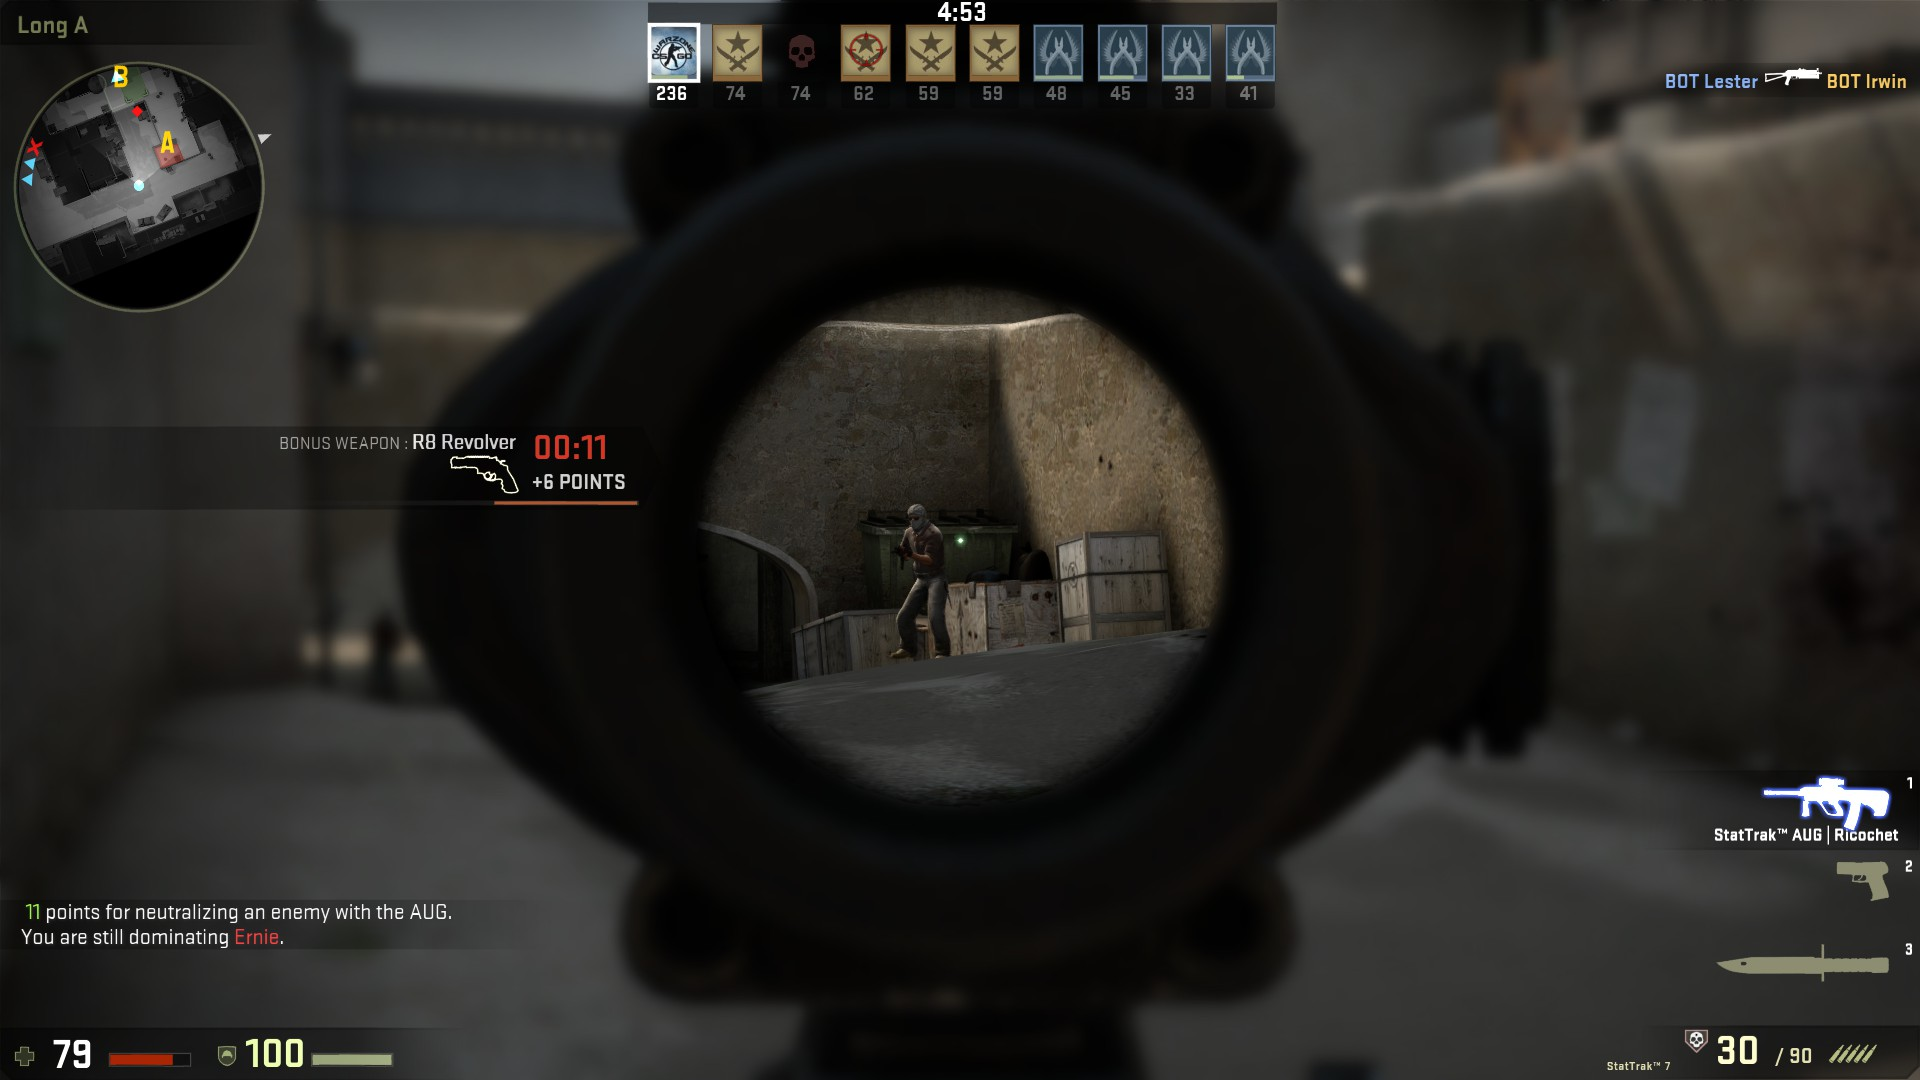t: (886, 500, 952, 663)
th: (901, 502, 932, 533)
